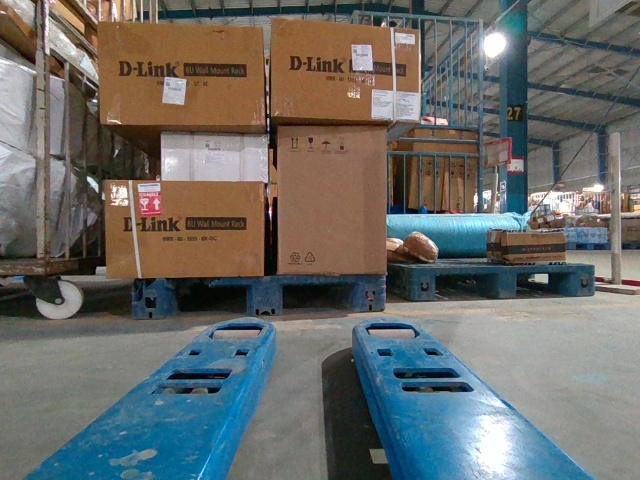block: (129, 276, 178, 318), (350, 274, 386, 313), (248, 277, 281, 314), (408, 267, 437, 299), (564, 264, 594, 294), (490, 266, 517, 298)
front: (131, 272, 388, 319), (408, 264, 594, 303)
hole pallet: (174, 285, 251, 315), (279, 282, 352, 312), (436, 275, 494, 299), (518, 273, 562, 295)
